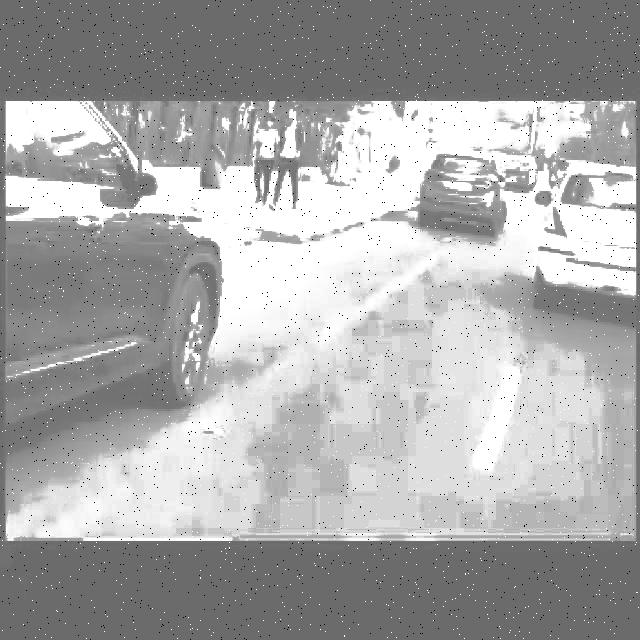Car: (0, 89, 240, 435), (536, 147, 640, 311), (413, 147, 517, 243)
